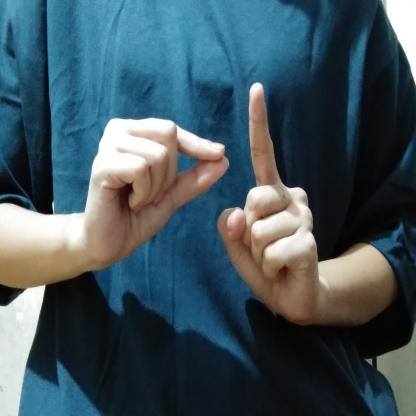son: (73, 78, 324, 333)
